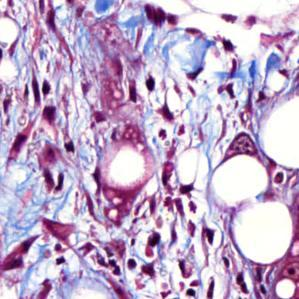steatosis: (228, 203, 296, 267)
